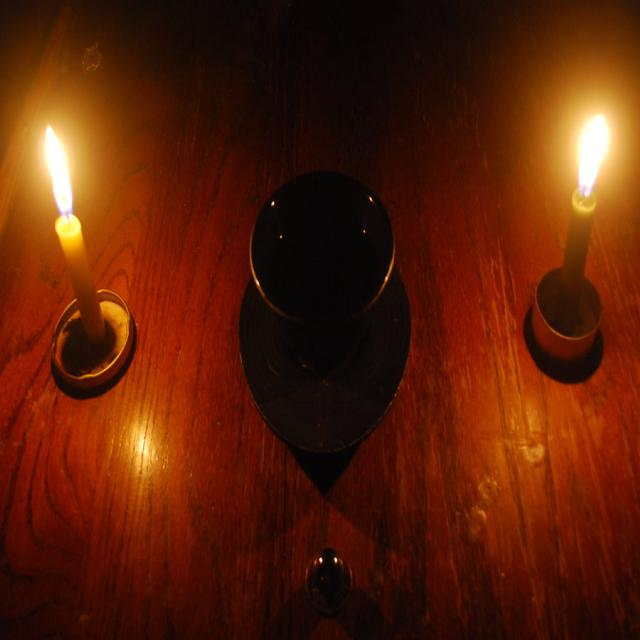Cup: (227, 172, 425, 462)
Table: (5, 1, 640, 616)
